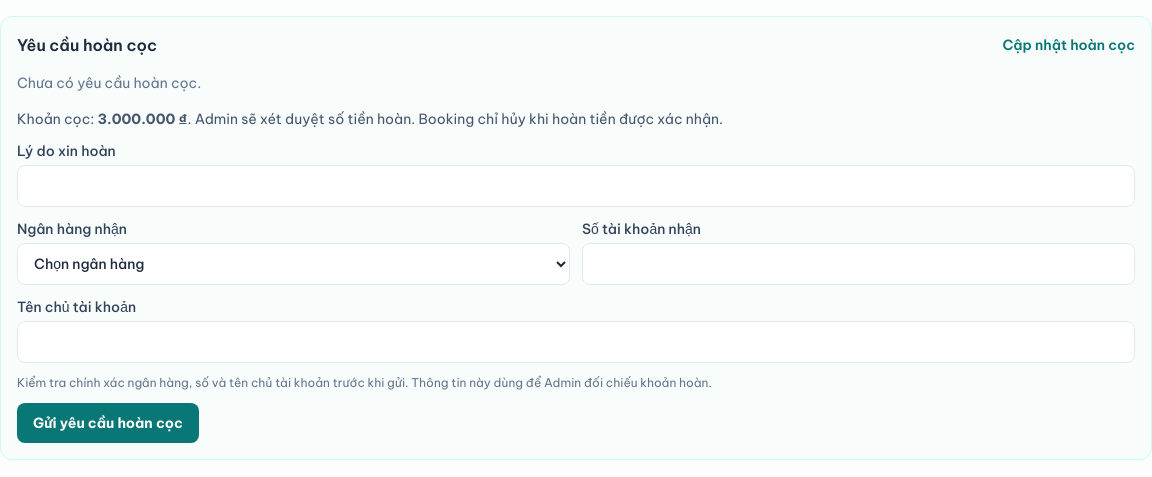
it: Customer refund form and tracking › sends only destination and reason, preserves leading zeroes, never caches bank data and prevents double submission
Type " Đổi kế hoạch " into the field labelled "Lý do xin hoàn".
click(576, 186); type(" Đổi kế hoạch ")  # box [17,165,1135,207]
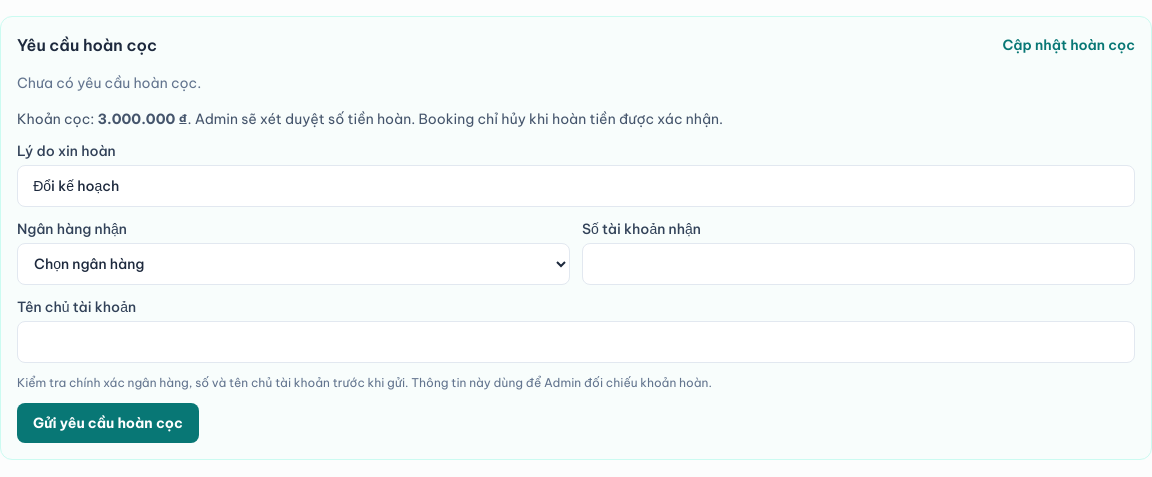
Select "MB Bank" in the dropdown labelled "Ngân hàng nhận" at point(294, 264), box [17,243,570,285]
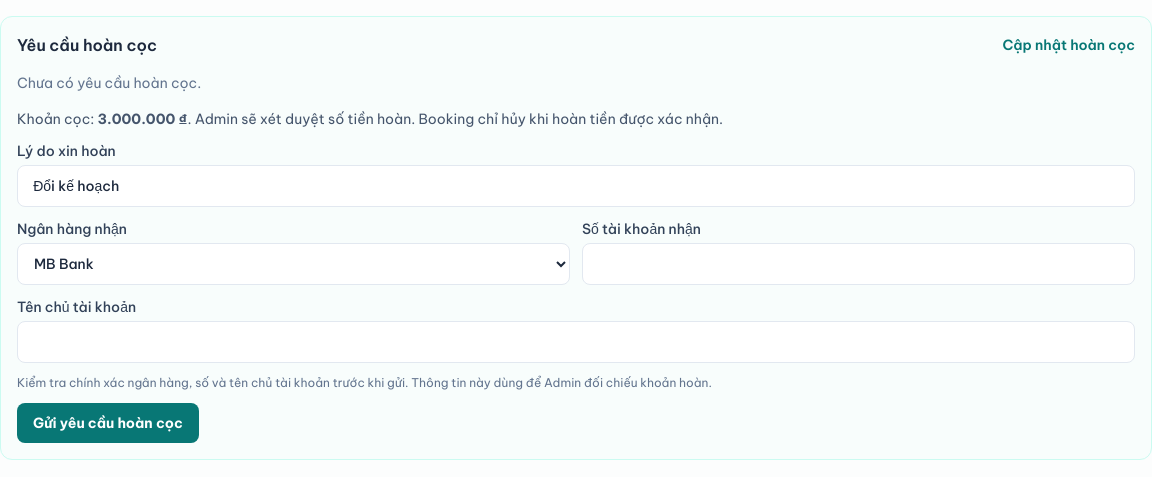
Type "001234567890" into the field labelled "Số tài khoản nhận".
click(858, 264); type("001234567890")  # box [582,243,1135,285]
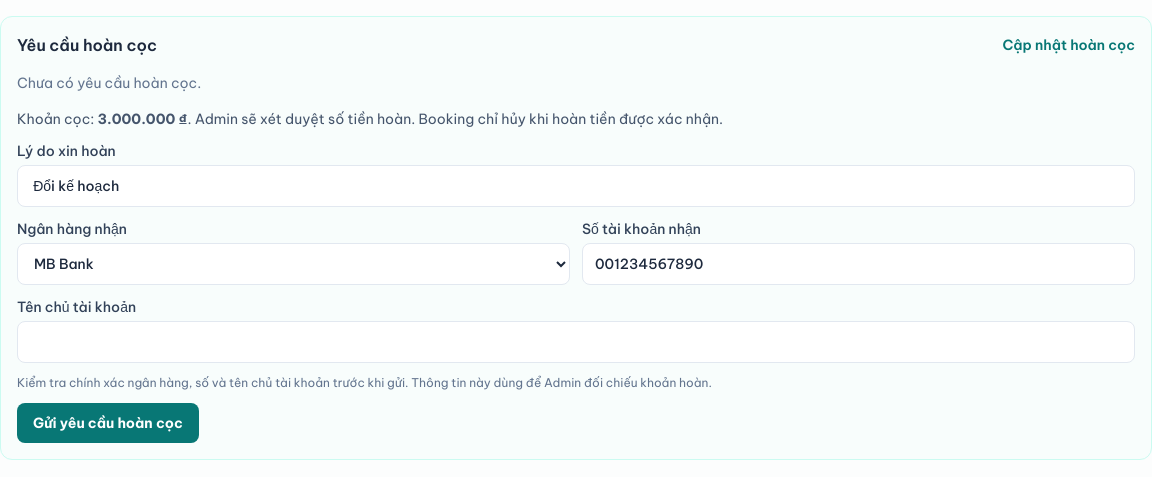
Type "NGUYEN AN" into the field labelled "Tên chủ tài khoản".
click(576, 342); type("NGUYEN AN")  # box [17,321,1135,363]
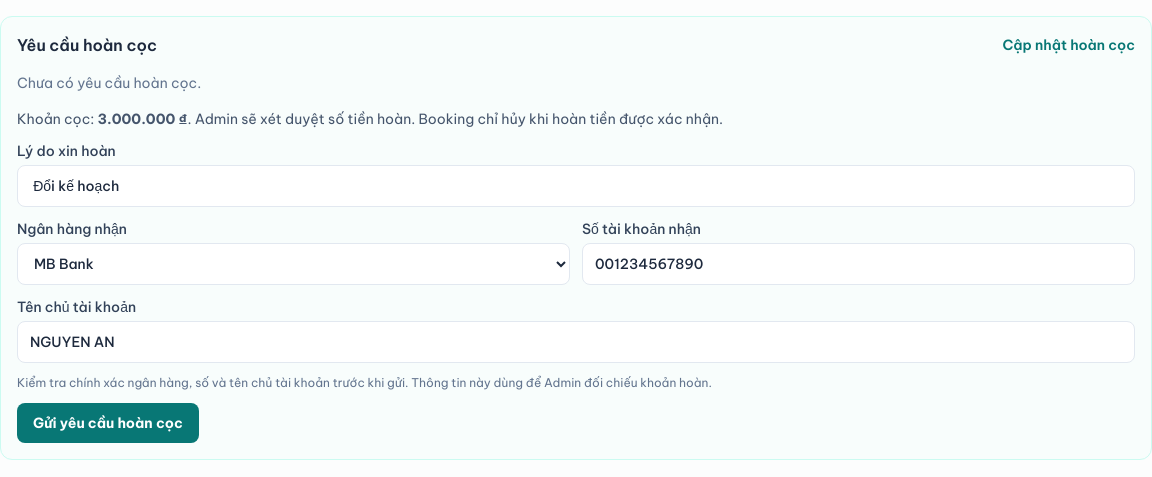
Click the button "Gửi yêu cầu hoàn cọc".
click(108, 423)  # box [17,403,199,443]
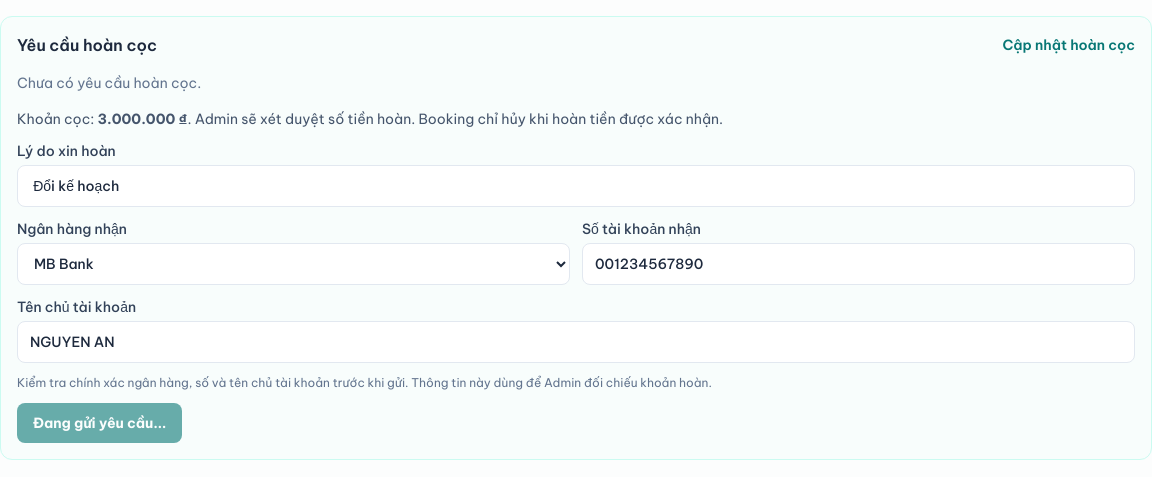
Click the button named "Gửi yêu cầu hoàn cọc".
click(100, 423)  # box [17,403,182,443]
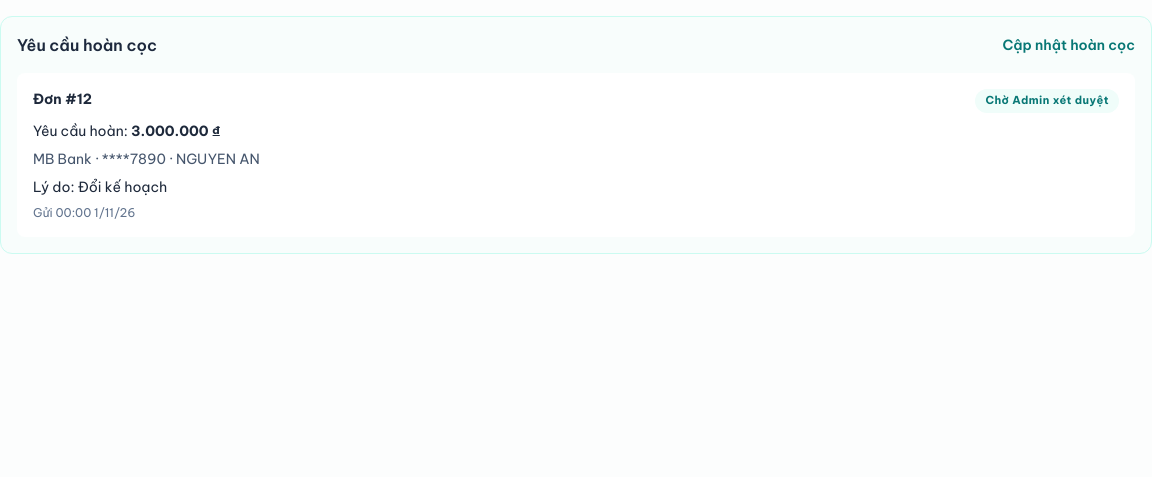
Expected: the button "Gửi yêu cầu hoàn cọc" is not shown
Expected: the text "Chờ Admin xét duyệt" is shown, [975,89,1119,113]
